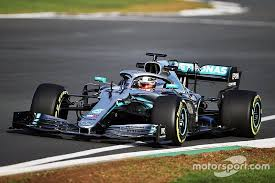FormulaOneCar: (8, 47, 264, 149)
